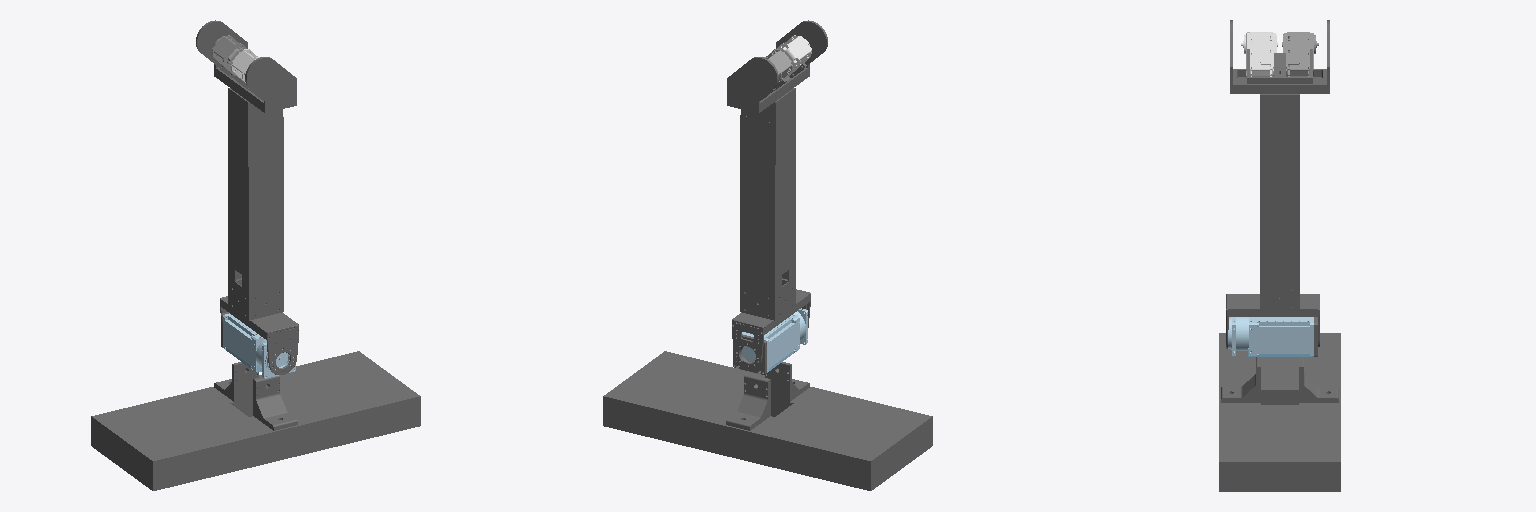
URDF robot description (robot_diff):
<?xml version="1.0"?>
<robot name="robot_diff" xmlns:xacro="http://ros.org/wiki/urdf">
 <link name="base_link">
 </link>
 <link name="Base">
  <visual>
    <origin xyz="0 0 0" rpy="0 0 0 " />
    <geometry>
	    <mesh filename="package://manipulator_description/meshes/base_fix.dae" />
    </geometry>
  </visual>
  <collision>
    <origin xyz="0 0 0" rpy="0 0 0 " />
    <geometry>
	    <mesh filename="package://manipulator_description/meshes/base_fix.dae" />
    </geometry>
  </collision>
  <inertial>
    <origin xyz="0 0 0" rpy="0 0 0 "/>
    <mass value="2.6"/>
    <inertia ixx="7.77716e+3"  ixy="0.00000e+0"  ixz="0.00000e+0" iyy="4.619e+4" iyz="0.00000e+0" izz="5.29561e+4" />
  </inertial>
  </link>
  <joint name="Base_to_base" type="fixed">
    <parent link="base_link"/>
    <child link="Base"/>
    <origin xyz="0.0 0.0 0.0" rpy="0 0 0" />
  </joint>
  
  <!-- Motor 1 -->
  <link name="Motor1">
    <visual>
      <origin xyz="0 0 0" rpy="1.571 0 0" />
      <geometry>
	      <mesh filename="package://manipulator_description/meshes/motor1.dae" />
      </geometry>
    </visual>
    <collision>
      <origin xyz="0 0 0" rpy="1.571 0 0 " />
      <geometry>
        <mesh filename="package://manipulator_description/meshes/motor1.dae" />
      </geometry>
    </collision>
    <inertial>
      <origin xyz="0 0 0" rpy="1.571 0 0 "/>
      <mass value="0.856"/>
      <inertia ixx="1.26094285e-3"  ixy="0.00000e+0"  ixz="0.00000e+0" iyy="3.79002180e-4" iyz="-5.78993250e-9" izz="1.26040377e-3" />
    </inertial>
    </link>
  <joint name="base_motor1" type="fixed">
    <parent link="Base"/>
    <child link="Motor1"/>
    <origin xyz="0 0 0.09" rpy="0 0 1.571" />
    <axis xyz="0 0 0" rpy="0 0 0"/>
  </joint>


  <!-- Fix 1 -->
   <!-- <link name="Fix1">
    <visual>
      <origin xyz="0 0 0" rpy="0 0 0" />
      <geometry>
	      <mesh filename="package://manipulator_description/meshes/fix1.dae" />
      </geometry>
    </visual>
    <collision>
      <origin xyz="0 0 0" rpy="0 0 0" />
      <geometry>
        <mesh filename="package://manipulator_description/meshes/fix1.dae" />
      </geometry>
    </collision>
    <inertial>
      <origin xyz="0 0 0" rpy="0 0 0"/>
      <mass value="0.11763625"/>
      <inertia ixx="4.62147e+1"  ixy="-1.98702e-3"  ixz="1.71669e+1" iyy="6.01841e+1" iyz="-3.58878e-3" izz="4.64090e+1" />
    </inertial>
    </link>
  <joint name="motor1_fix1" type="fixed">
    <parent link="Motor1"/>
    <child link="Fix1"/>
    <origin xyz="0.0 0 0.0" rpy="0 0 0" />
  </joint> -->

  <!-- Fix 2 -->
   <!-- <link name="Fix2">
    <visual>
      <origin xyz="-0.045 -0.02 0.027" rpy="0 0 3.14" />
      <geometry>
	      <mesh filename="package://manipulator_description/meshes/fix2.dae" />
      </geometry>
    </visual>
    <collision>
      <origin xyz="-0.045 -0.02 0.027" rpy="0 0 3.14 " />
      <geometry>
        <mesh filename="package://manipulator_description/meshes/fix2.dae" />
      </geometry>
    </collision>
    <inertial>
      <origin xyz="-0.045 -0.02 0.027" rpy="0 0 3.14"/>
      <mass value="0.11763625"/>
      <inertia ixx="4.62147e+1"  ixy="-1.98702e-3"  ixz="1.71669e+1" iyy="6.01841e+1" iyz="-3.58878e-3" izz="4.64090e+1" />
    </inertial>
    </link>
  <joint name="motor1_fix2" type="fixed">
    <parent link="Motor1"/>
    <child link="Fix2"/>
    <origin xyz="0.0 0.0 0.0" rpy="0 0 0" />
  </joint> -->


 <!-- Elo 1 -->
   <link name="Elo1">
    <visual>
      <origin xyz="0 0 0" rpy="-3.14 0 0" />
      <geometry>
	      <mesh filename="package://manipulator_description/meshes/elo1.dae" />
      </geometry>
    </visual>
    <collision>
      <origin xyz="0 0 0" rpy="-3.14 0 0" />
      <geometry>
        <mesh filename="package://manipulator_description/meshes/elo1.dae" />
      </geometry>
    </collision>
    <inertial>
      <origin xyz="0 0 0" rpy="-3.14 0 0"/>
      <mass value="0.15040432"/>
      <inertia ixx="3.45063e+1"  ixy="0.00000e+0"  ixz="0.00000e+0" iyy="1.07762e+2" iyz="0.00000e+0" izz="1.38659e+2" />
    </inertial>
    </link>
  <joint name="motor1_elo1" type="continuous">
    <parent link="Motor1"/>
    <child link="Elo1"/>
    <origin xyz="0.0 0.0 0.036" rpy="3.14 0 0" />
    <axis xyz="0 0 1" rpy="0 0 0"/>
  </joint>


 <!-- Motor 2 -->
  <link name="Motor2">
    <visual>
      <origin xyz="0 0 0" rpy="1.571 0 0" />
      <geometry>
	      <mesh filename="package://manipulator_description/meshes/motor2.dae" />
      </geometry>
    </visual>
    <collision>
      <origin xyz="0 0 0" rpy="1.571 0 0" />
      <geometry>
        <mesh filename="package://manipulator_description/meshes/motor2.dae" />
      </geometry>
    </collision>
    <inertial>
      <origin xyz="0 0 0" rpy="1.571 0 0"/>
      <mass value="0.856"/>
      <inertia ixx="1.26094285e-3"  ixy="0.00000e+0"  ixz="0.00000e+0" iyy="3.79002180e-4" iyz="-5.78993250e-9" izz="1.26040377e-3" />
    </inertial>
    </link>
  <joint name="elo1_motor2" type="fixed">
    <parent link="Elo1"/>
    <child link="Motor2"/>
    <origin xyz="-0.04 0.0 -0.027" rpy="-1.571 1.571 1.571" />
    <axis xyz="0 0 0" rpy="0 0 0"/>
  </joint>


  <!-- Fix Motor2 -->
   <link name="Fix_Motor2">
    <visual>
      <origin xyz="0 0 0" rpy="1.571 0 0" />
      <geometry>
	      <mesh filename="package://manipulator_description/meshes/fixmotor2.dae" />
      </geometry>
    </visual>
    <collision>
      <origin xyz="0 0 0" rpy="1.571 0 0 " />
      <geometry>
        <mesh filename="package://manipulator_description/meshes/fixmotor2.dae" />
      </geometry>
    </collision>
    <inertial>
      <origin xyz="0 0 0" rpy="1.571 0 0"/>
      <mass value="0.03239855"/>
      <inertia ixx="9.57551961e-6"  ixy="-1.52519365e-14"  ixz="7.17291197e-16" iyy="9.41926366e-6" iyz="1.37735170e-11" izz="1.88295847e-5" />
    </inertial>
    </link>
  <joint name="motor2_fix" type="fixed">
    <parent link="Motor2"/>
    <child link="Fix_Motor2"/>
    <origin xyz="0.0 0.0 -0.093" rpy="1.571 0 0" />
  </joint>

   <!-- Frame Motor2 -->
   <!-- <link name="Frame_Motor2">
    <visual>
      <origin xyz="0 0 0.03810000" rpy="0 0 0" />
      <geometry>
	      <mesh filename="package://manipulator_description/meshes/framemotor2.dae" />
      </geometry>
    </visual>
    <collision>
      <origin xyz="0 0 0.03810000" rpy="0 0 0 " />
      <geometry>
        <mesh filename="package://manipulator_description/meshes/framemotor2.dae" />
      </geometry>
    </collision>
    <inertial>
      <origin xyz="0 0 0.03810000" rpy="0 0 0"/>
      <mass value="0.04276509"/>
      <inertia ixx="2.60129652e-5"  ixy="5.21881650e-13"  ixz="4.50524013e-6" iyy="2.04411046e-4" iyz="-4.21152332e-14" izz="1.99411922e-4" />
    </inertial>
    </link>
  <joint name="motor2_frame" type="continuous">
    <parent link="Motor2"/>
    <child link="Frame_Motor2"/>
    <origin xyz="0 -0.03 0" rpy="-1.571 0 -1.571" />
    <axis xyz="1 0 0" rpy="0 0 0"/>
  </joint> -->

   <!-- Elo 2-->
   <link name="Elo2">
    <visual>
      <origin xyz="-0.029 0.22765252  0" rpy="0 1.571 0" />
      <geometry>
	      <mesh filename="package://manipulator_description/meshes/elo2.dae" />
      </geometry>
    </visual>
    <collision>
      <origin xyz="-0.029 0.22765252 0" rpy="0 1.571 0 " />
      <geometry>
        <mesh filename="package://manipulator_description/meshes/elo2.dae" />
      </geometry>
    </collision>
    <inertial>
      <origin xyz="-0.029 0.22765252  0" rpy="0 1.571 0"/>
      <mass value="0.88616841"/>
      <inertia ixx="1.58419493e-2"  ixy="-2.56476794e-4"  ixz="1.21455620e-6" iyy="1.77005347e-3" iyz="2.29322588e-4" izz="1.67884775e-2" />
    </inertial>
    </link>
  <joint name="elo2_motor2" type="revolute">
    <parent link="Motor2"/>
    <child link="Elo2"/>
    <limit effort="1000.0" lower="-1.77" upper="1.77" velocity="0.5"/>
    <origin xyz="0.0 0.0 -0.04" rpy="0 0 -1.571"/>
    <axis xyz="0 0 1" rpy="0 0 0"/>
  </joint>


  <!-- Motor 3 R-->
   <link name="Motor3R">
    <visual>
      <origin xyz="0 0 0" rpy="0 0 -0.75" />
      <geometry>
	      <mesh filename="package://manipulator_description/meshes/motor3R.dae" />
      </geometry>
    </visual>
    <collision>
      <origin xyz="0 0 0" rpy="0 0 -0.75 " />
      <geometry>
        <mesh filename="package://manipulator_description/meshes/motor3R.dae" />
      </geometry>
    </collision>
    <inertial>
      <origin xyz="0 0 0" rpy="0 0 -0.75"/>
      <mass value="0.16505359"/>
      <inertia ixx="7.89080915e-5"  ixy="-3.13361612e-9"  ixz="4.40720922e-9" iyy="4.40037283e-5" iyz="-2.02636752e-6" izz="6.23905424e-5" />
    </inertial>
    </link>
  <joint name="motor3r_elo2" type="fixed">
    <parent link="Elo2"/>
    <child link="Motor3R"/>
    <origin xyz="-0.026 0.455 -0.027" rpy="0 3.14 0"/>
    <!-- <axis xyz="0 0 1" rpy="0 0 0"/> -->
  </joint>


  <!-- Motor 3 T-->
   <link name="Motor3T">
    <visual>
      <origin xyz="0.0 0.0 0.0" rpy="0 0 0.75" />
      <geometry>
	      <mesh filename="package://manipulator_description/meshes/motor3T.dae" />
      </geometry>
    </visual>
    <collision>
      <origin xyz="0.0 0.0 0.0" rpy="0 0 0.75 " />
      <geometry>
        <mesh filename="package://manipulator_description/meshes/motor3T.dae" />
      </geometry>
    </collision>
    <inertial>
      <origin xyz="0.0 0.0 0.0" rpy="0 0 0.75"/>
      <mass value="0.16499216"/>
      <inertia ixx="7.88952550e-5"  ixy="-3.13065901e-9"  ixz="4.40693303e-9" iyy="4.39861799e-5" iyz="-2.02737764e-6" izz="6.23603662e-5" />
    </inertial>
    </link>
  <joint name="motor3t_elo2" type="fixed">
    <parent link="Elo2"/>
    <child link="Motor3T"/>
    <origin xyz="-0.026 0.455 0.027" rpy="0 0 0"/>
    <!-- <axis xyz="0 0 1" rpy="0 0 0"/> -->
  </joint>

  <!-- Elo 3-->
   <!-- <link name="Elo3">
    <visual>
      <origin xyz="0 0 0" rpy="0 0 0.75" />
      <geometry>
	      <mesh filename="package://manipulator_description/meshes/motor3T.dae" />
      </geometry>
    </visual>
    <collision>
      <origin xyz="0 0 0" rpy="0 0 0.75 " />
      <geometry>
        <mesh filename="package://manipulator_description/meshes/motor3T.dae" />
      </geometry>
    </collision>
    <inertial>
      <origin xyz="0 0 0" rpy="0 0 0.75"/>
      <mass value="0.16499216"/>
      <inertia ixx="7.88952550e-5"  ixy="-3.13065901e-9"  ixz="4.40693303e-9" iyy="4.39861799e-5" iyz="-2.02737764e-6" izz="6.23603662e-5" />
    </inertial>
    </link>
  <joint name="motor3t_elo2" type="fixed">
    <parent link="Elo2"/>
    <child link="Motor3T"/>
    <origin xyz="-0.026 ${0.47211676-0.02086310} -0.03" rpy="0 -1.571 0"/>
    <axis xyz="0 0 1" rpy="0 0 0"/> 
  </joint> -->

  

</robot>

--- Facts derived from the render (not from the file) ---
The picture shows the robot from 3 angles, left to right: view 1: azimuth 30°, elevation 25°; view 2: azimuth 150°, elevation 25°; view 3: azimuth 270°, elevation 25°; orthographic projection.
Model robot_diff with 9 links and 8 joints (1 revolute, 1 continuous, 6 fixed), rooted at base_link, posed all joints at 0.
Links seen in each view (by area): view 1: Base, Elo2, Motor2, Motor3R; view 2: Base, Elo2, Motor2, Motor3T; view 3: Base, Elo2, Motor2, Motor3T, Motor3R.
Boxes of the visible links, x1,y1,x2,y2 form: Base: [91, 351, 420, 490]; Elo2: [196, 20, 298, 374]; Motor2: [223, 313, 295, 378]; Motor3R: [212, 35, 246, 80]; Base: [603, 351, 932, 490]; Elo2: [727, 20, 827, 366]; Motor2: [742, 308, 807, 371]; Motor3T: [777, 35, 811, 80]; Base: [1219, 333, 1340, 491]; Elo2: [1226, 20, 1329, 348]; Motor2: [1228, 317, 1313, 356]; Motor3T: [1241, 32, 1277, 76]; Motor3R: [1282, 32, 1318, 76].
Bounding box of the posed robot: 0.448 × 0.179 × 0.6419 m (x, y, z).
7 mesh visuals loaded from 8 distinct referenced files (7 Collada DAE); not drawn: 1 (reference not matched to a file when rendering).
